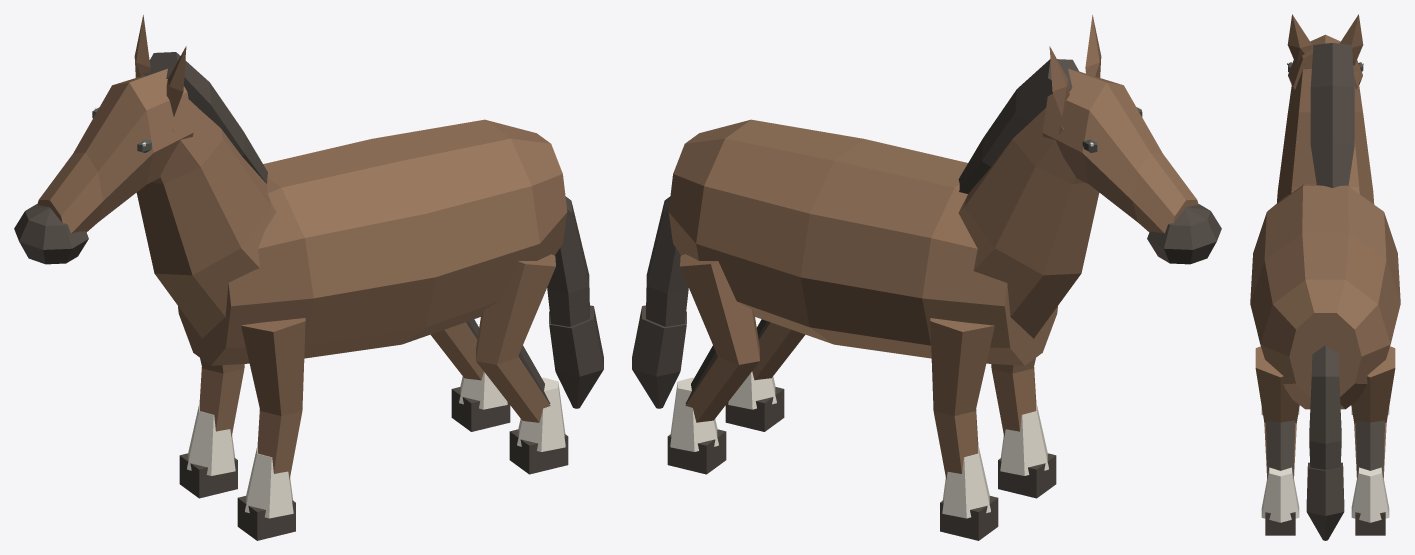
File: horse-mesh.glb
The picture shows the model from 3 angles, left to right: view 1: azimuth 30°, elevation 25°; view 2: azimuth 150°, elevation 25°; view 3: azimuth 270°, elevation 25°; orthographic projection. The views are drawn at different scales.
Parts seen in each view (by area): view 1: Horse; view 2: Horse; view 3: Horse.
Part boxes in pixels (x1=…): Horse: x1=14, y1=15, x2=603, y2=540; Horse: x1=632, y1=15, x2=1221, y2=540; Horse: x1=1250, y1=14, x2=1400, y2=540.
Bounding box in the file's own units: 0.722 × 0.585 × 0.208.
